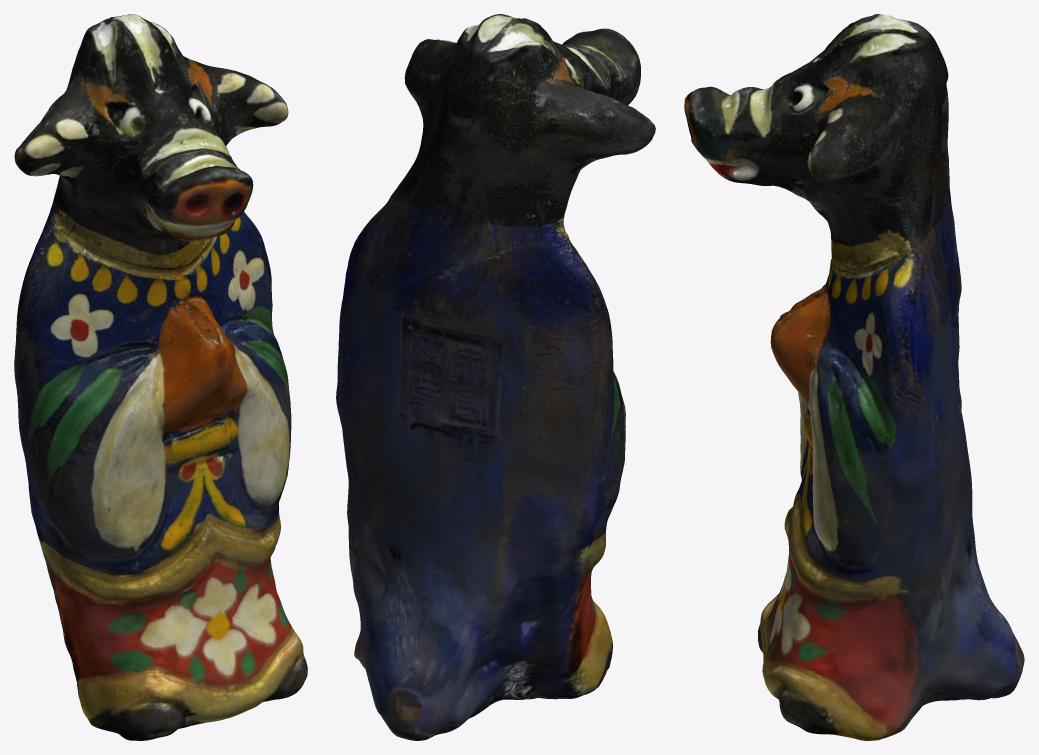
3 renders of one model, left to right at view 1: azimuth 30°, elevation 25°; view 2: azimuth 150°, elevation 25°; view 3: azimuth 270°, elevation 25°, orthographic. The views are drawn at different scales.
Size of the model in its own units: 0.1666 by 0.3803 by 0.1775.
Materials: 1 (1 with a texture image).
